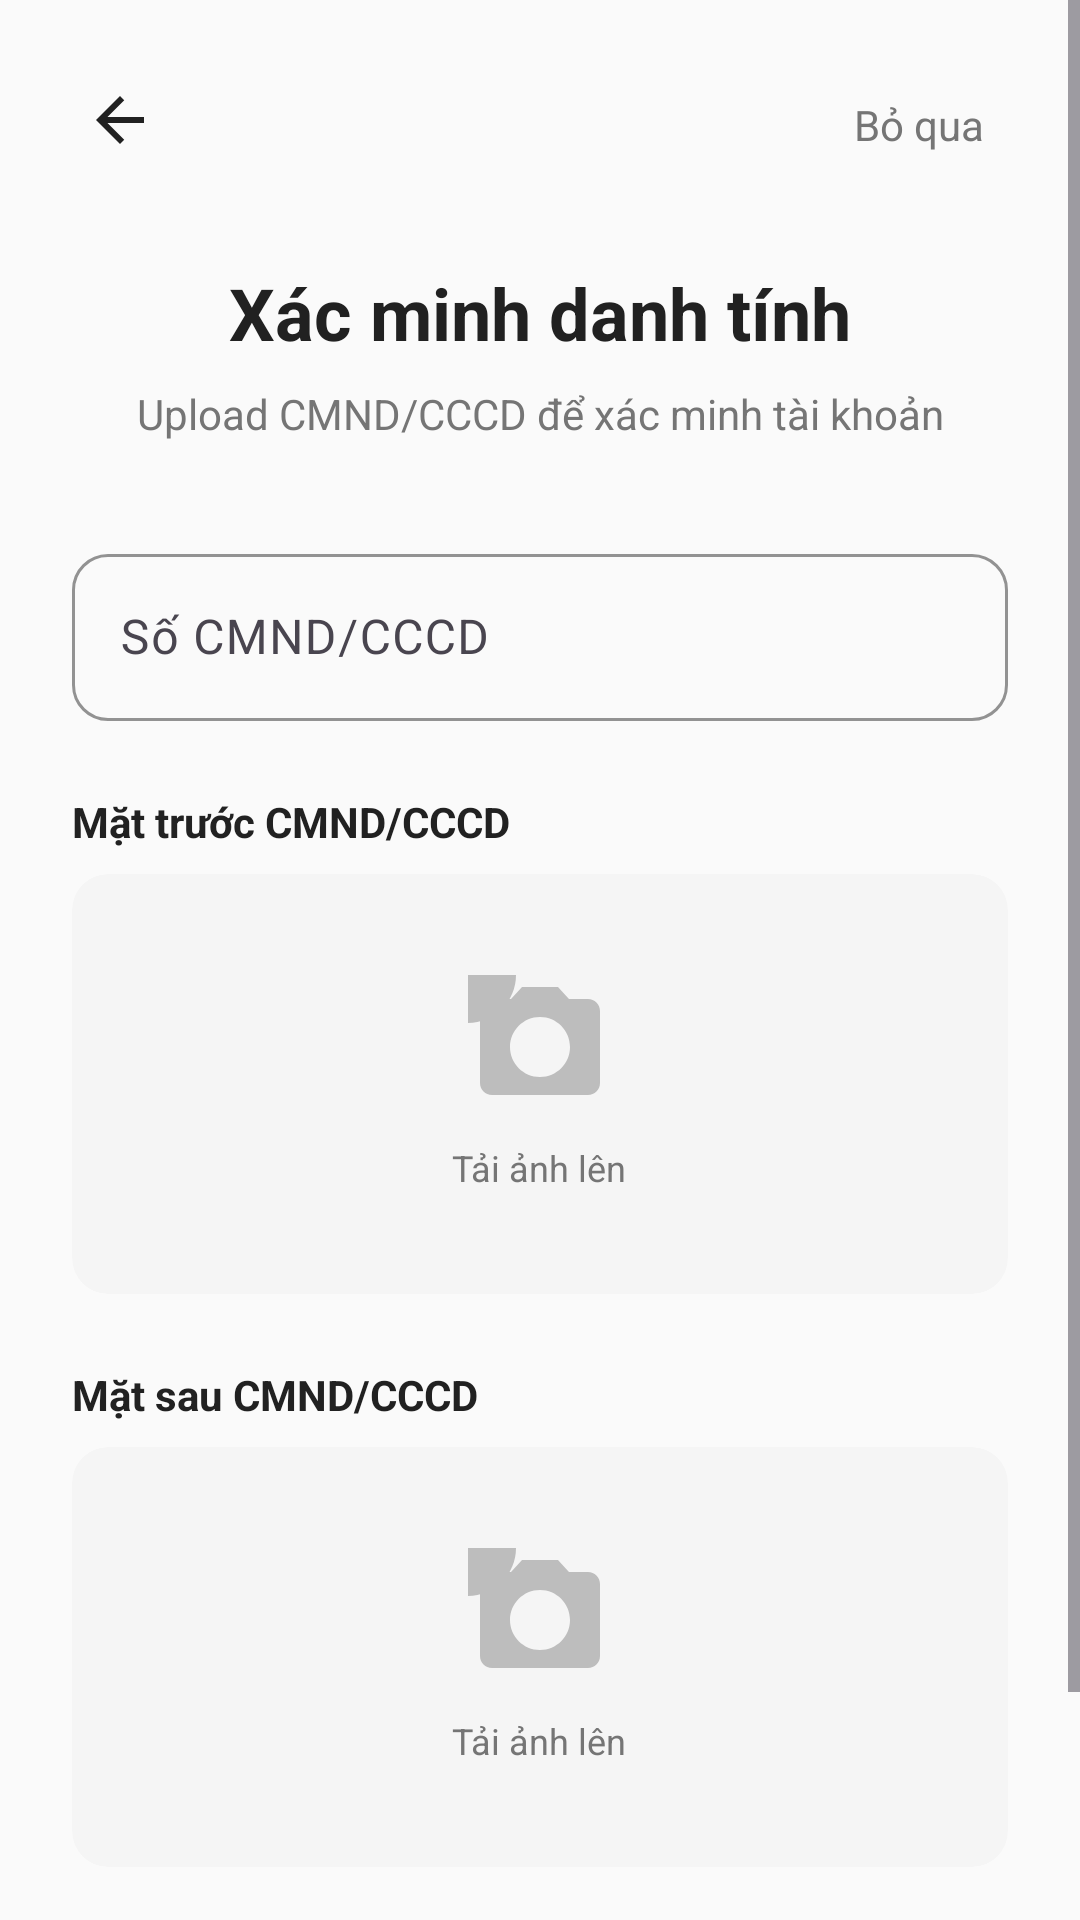

Named icons in this screenshot (1080x1920) and their centers, [x,y]:
Back: [120,120]
camera: [534,1035], [534,1608]
